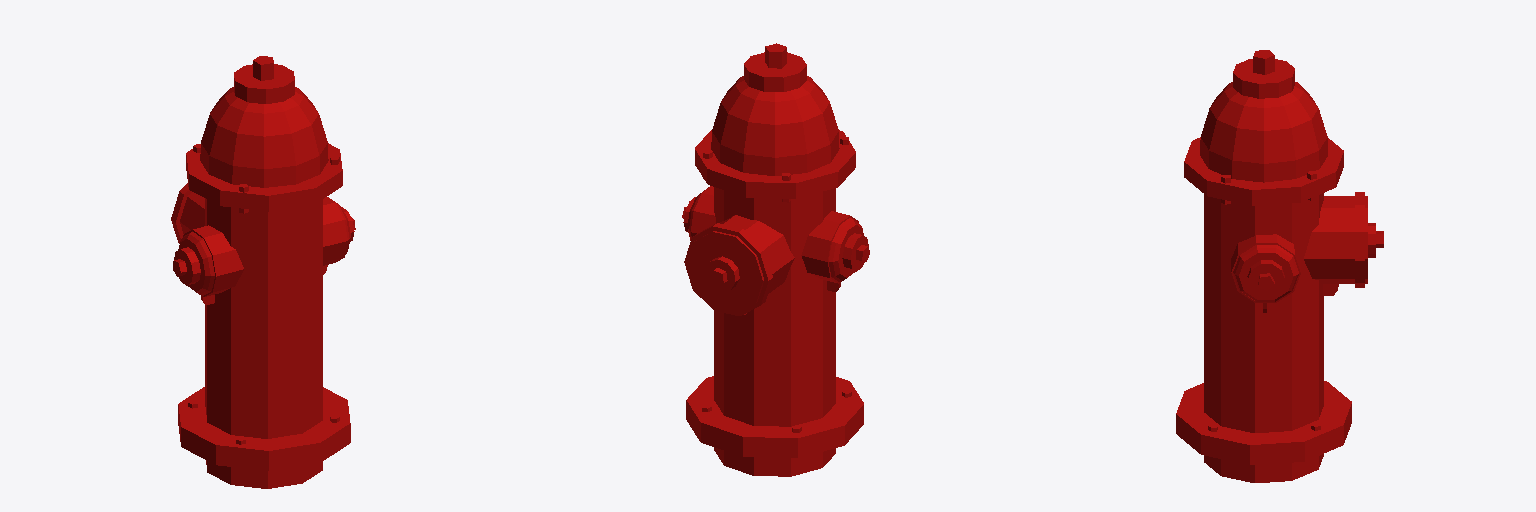
The model's file is Fire Hydrant.obj.
3 renders of one model, left to right at view 1: azimuth 30°, elevation 25°; view 2: azimuth 150°, elevation 25°; view 3: azimuth 270°, elevation 25°, orthographic.
Parts seen in each view (by area): view 1: FireHydrant; view 2: FireHydrant; view 3: FireHydrant.
Part boxes in pixels (x1,y1,x2,y2): FireHydrant: (171,56,355,488); FireHydrant: (682,43,869,476); FireHydrant: (1176,50,1383,482).
Size of the model in its own units: 107 by 233 by 109.